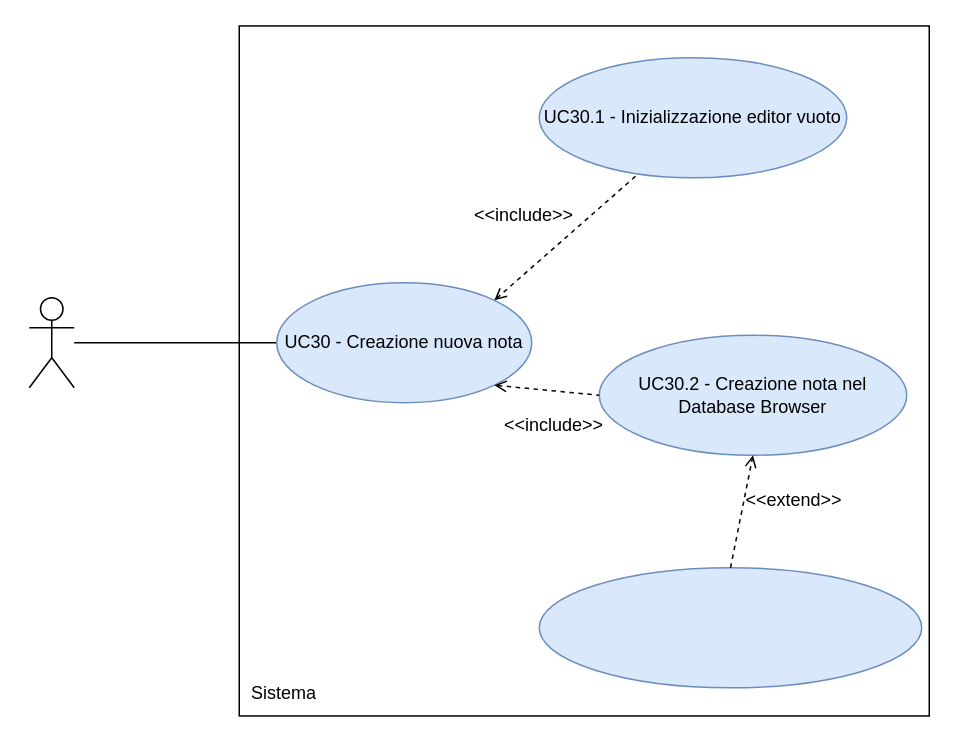
This 956x743 diagram has some shape labels left out. The centre of each missing label's shape, as x and y in pixels:
UC30.3 - Errore creazione nota nel Database: the point at 730,627
Utente: the point at 51,342
